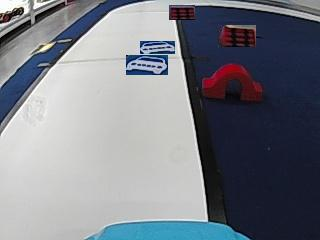bridge: (202, 63, 264, 100)
